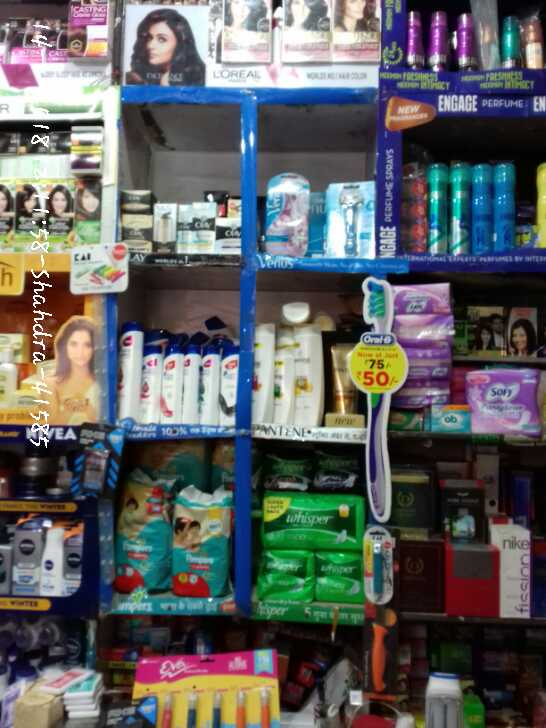venus: (325, 178, 378, 254), (268, 174, 308, 255)
